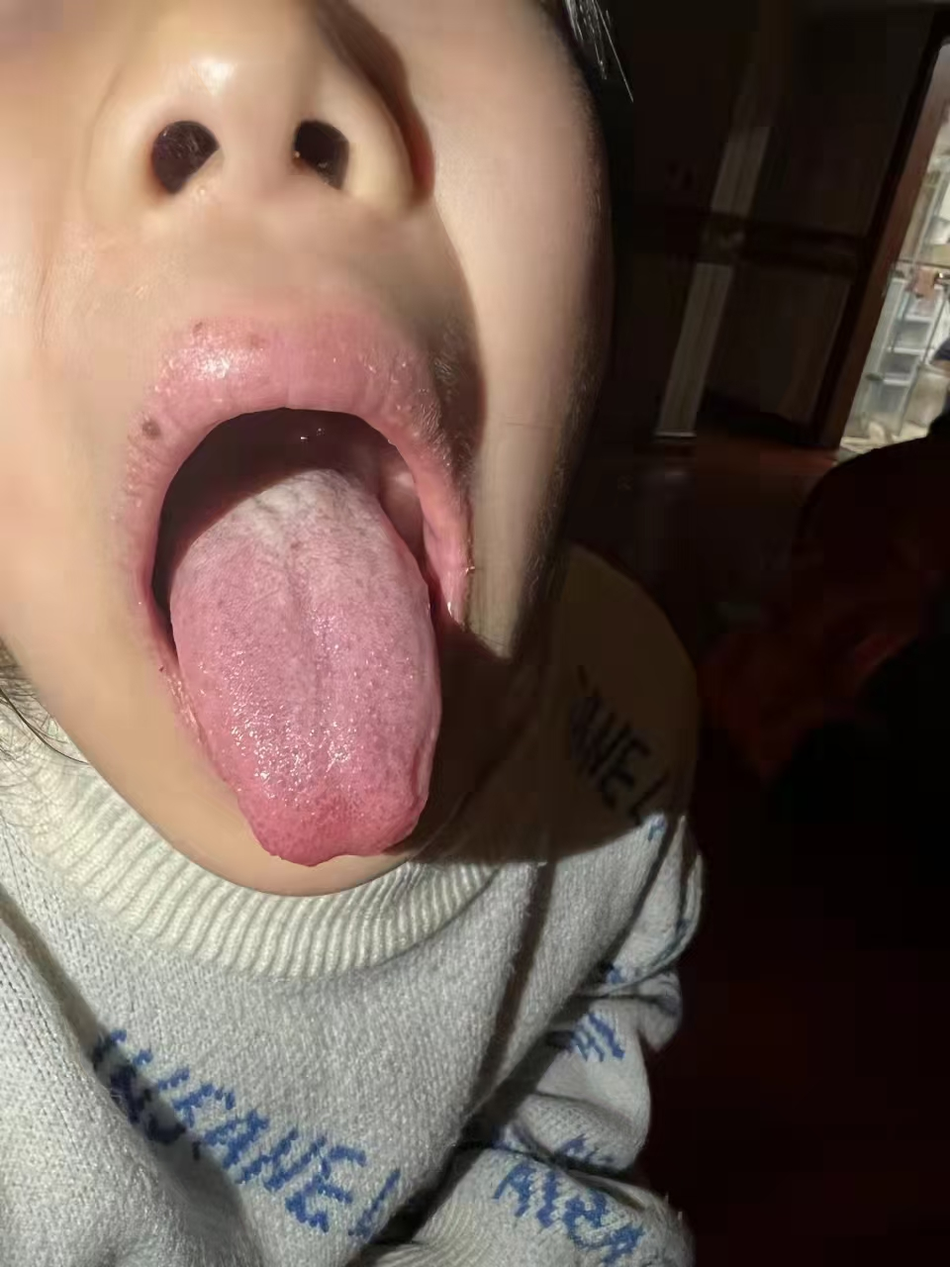baitaishe: (167, 452, 441, 865)
xinfeiao: (299, 837, 388, 865)
